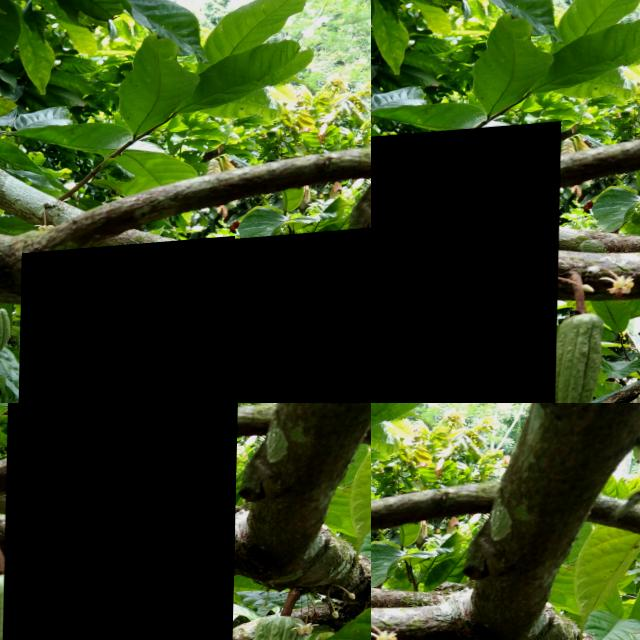Sana: (2, 403, 239, 640), (371, 125, 561, 403), (18, 241, 236, 403), (224, 232, 371, 403)
